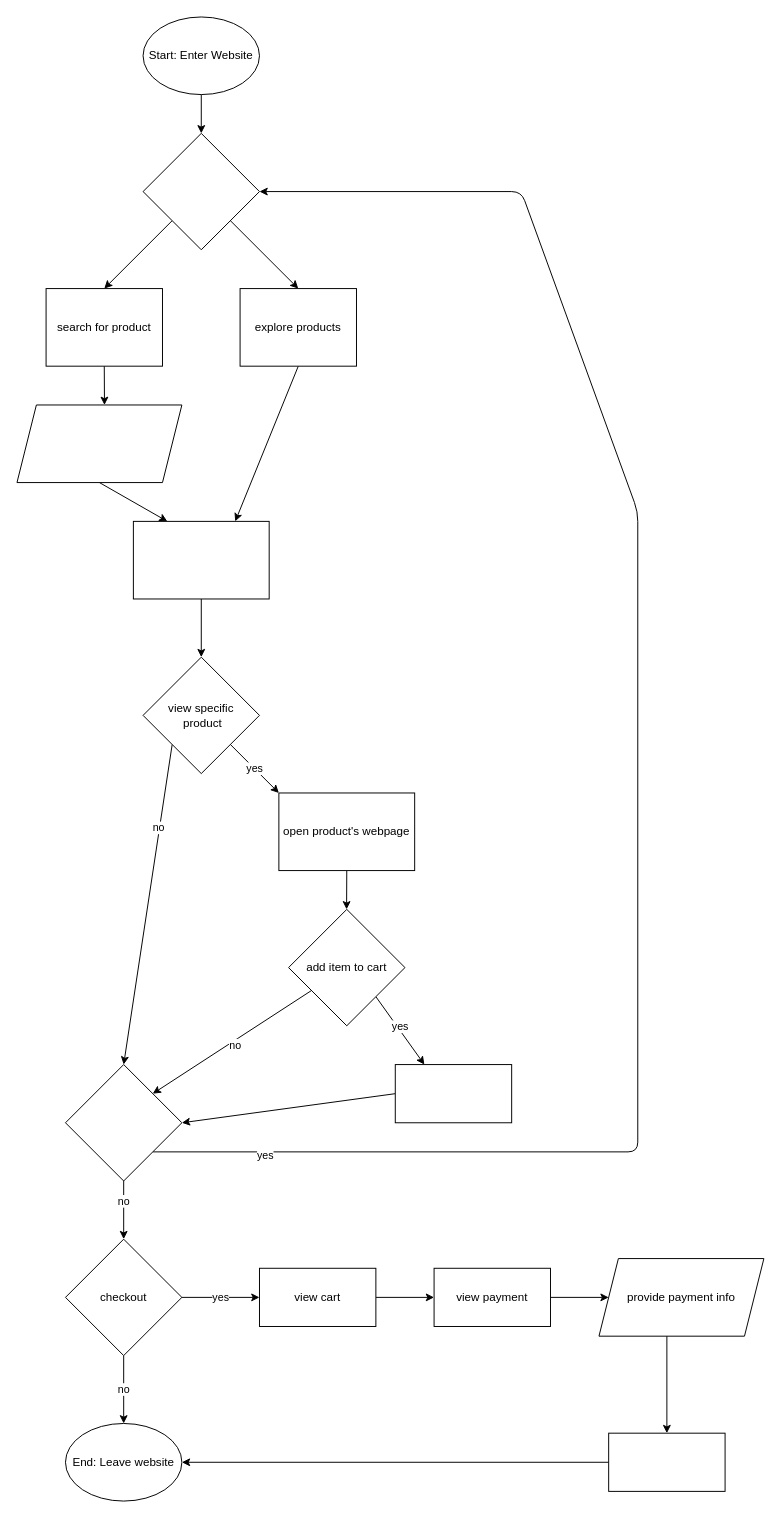
This 781x1518 diagram has some shape labels left out. The centre of each missing label's shape, as x and y in pixels:
"add to cart confirmation" belongs at point (453, 1093).
"begin looking over products" belongs at point (200, 559).
"continue shopping" belongs at point (123, 1122).
"order confirmation screen and email confirmation" belongs at point (666, 1461).
"provide search input to website" belongs at point (99, 443).
"search or explore products" belongs at point (200, 191).
